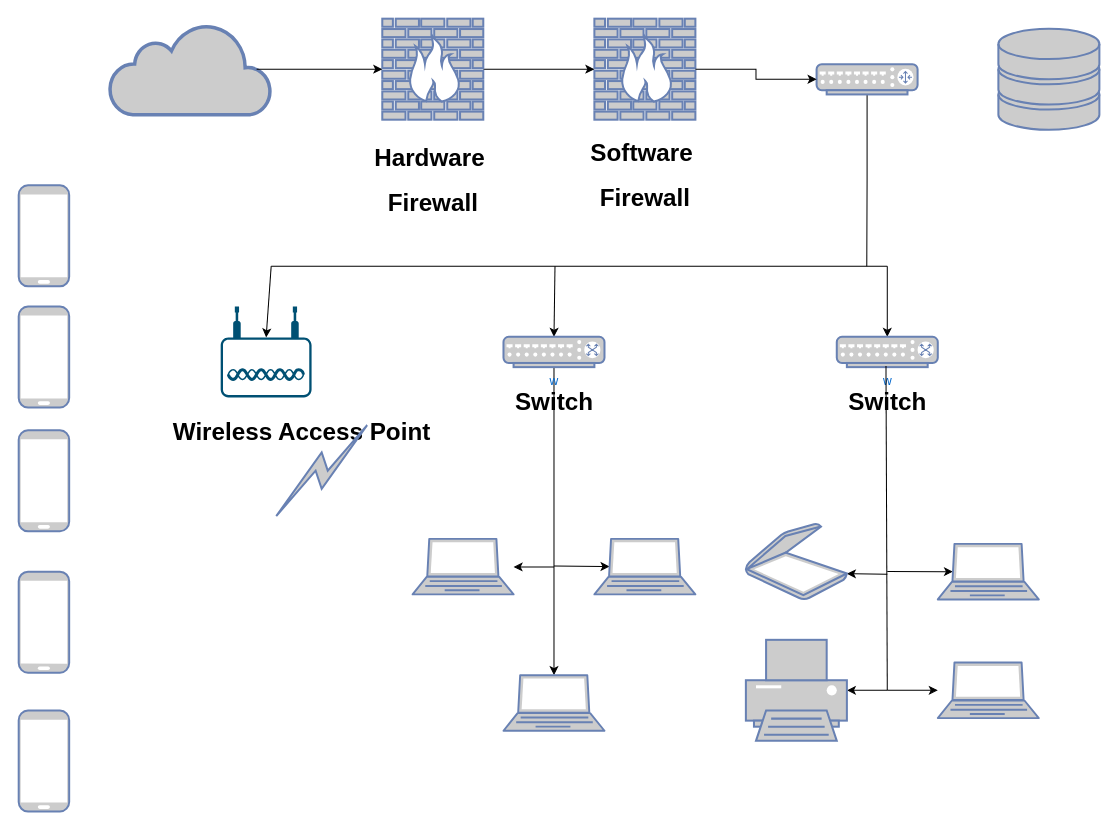
Image size: 1117x829. Some labels were removed from this diagram. Each missing label, with the centre of its shape:
"Internet" belongs at (190,68).
"Router" belongs at (866,79).
